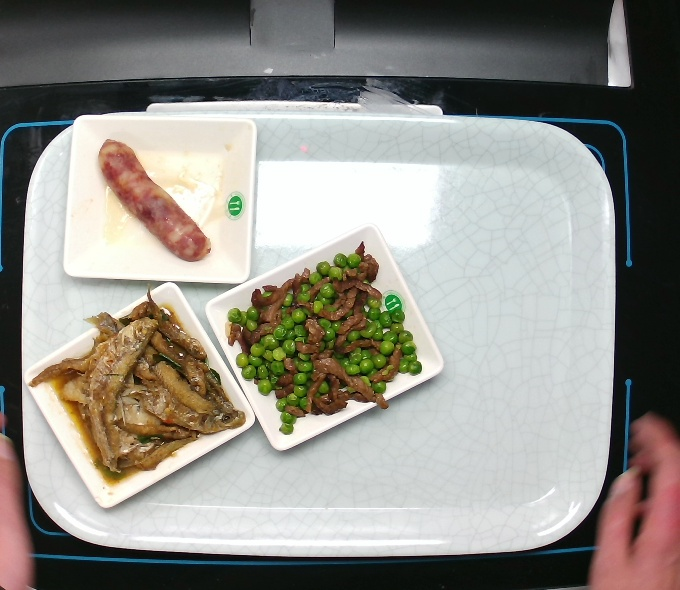wcq-CanDouNiuRou: (221, 240, 422, 437)
wcq-XiangChang: (96, 135, 213, 264)
wcq-XiaoXiYu: (28, 284, 248, 486)
